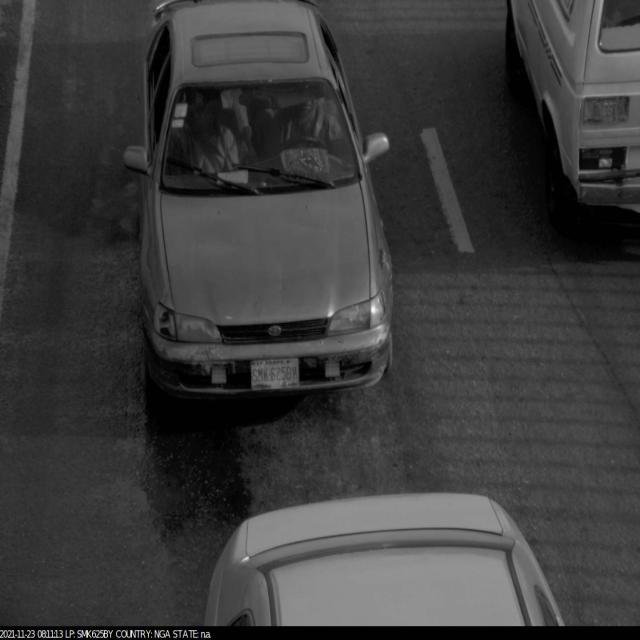windshield: (156, 76, 366, 204)
